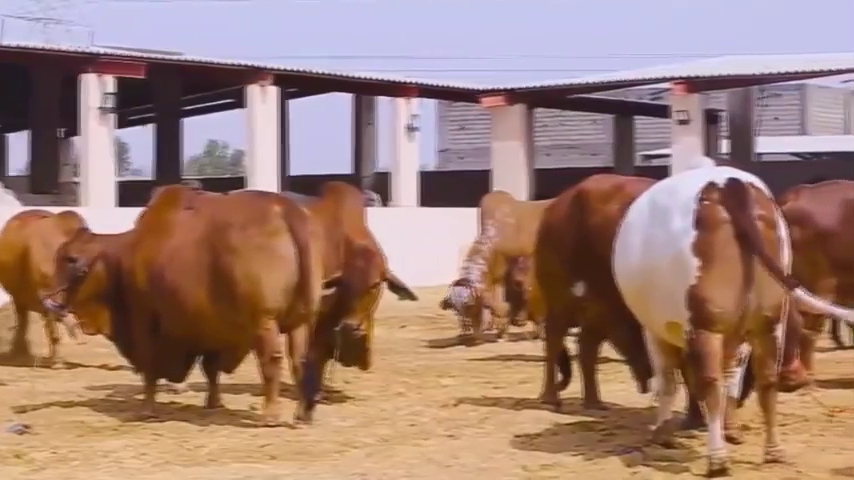bo: (46, 170, 321, 435), (607, 149, 803, 474), (527, 160, 633, 428), (297, 171, 424, 391), (769, 155, 854, 389), (437, 172, 540, 356), (2, 199, 94, 372), (502, 250, 542, 334)
